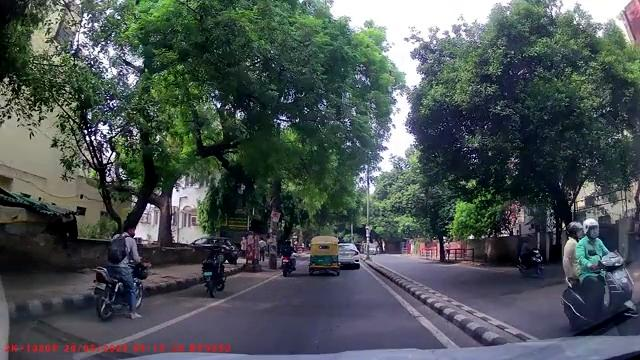passenger_with_helmet: (560, 217, 639, 334)
